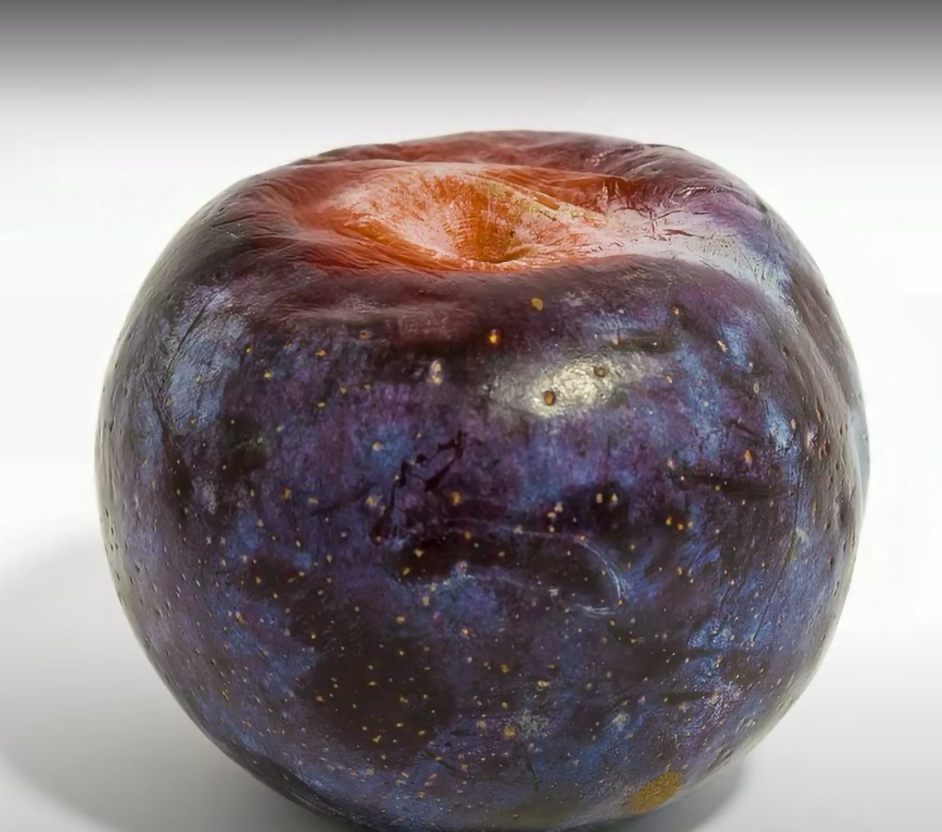plum_C: (94, 125, 864, 832)
